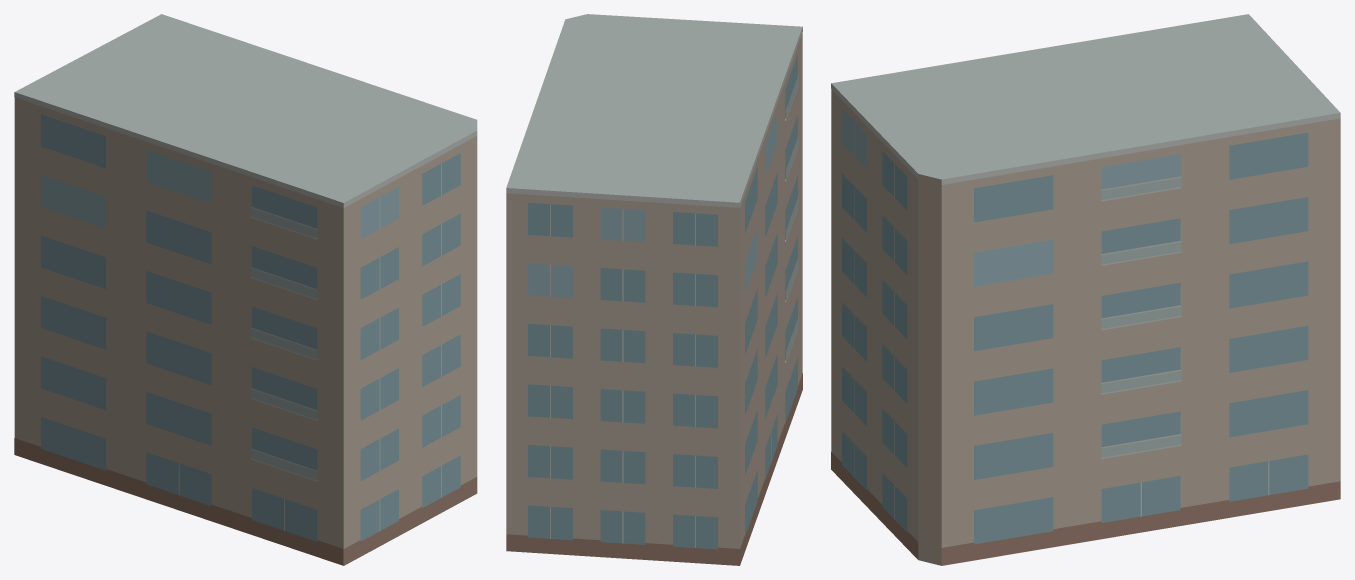
The model's file is survey-upis-32758770.glb.
The picture shows the model from 3 angles, left to right: view 1: azimuth 30°, elevation 25°; view 2: azimuth 150°, elevation 25°; view 3: azimuth 270°, elevation 25°; orthographic projection. The views are drawn at different scales.
Visible parts, largest first — view 1: survey-upis-32758770.tmp; view 2: survey-upis-32758770.tmp; view 3: survey-upis-32758770.tmp.
Boxes of the visible parts, bbox=[...] form: survey-upis-32758770.tmp: bbox=[14, 14, 477, 565]; survey-upis-32758770.tmp: bbox=[506, 14, 802, 565]; survey-upis-32758770.tmp: bbox=[831, 14, 1340, 565].
Bounding box in the file's own units: 15.73 × 17.1 × 20.45.
